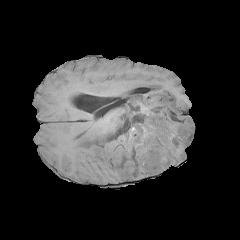glioma: (71, 76, 193, 180)
